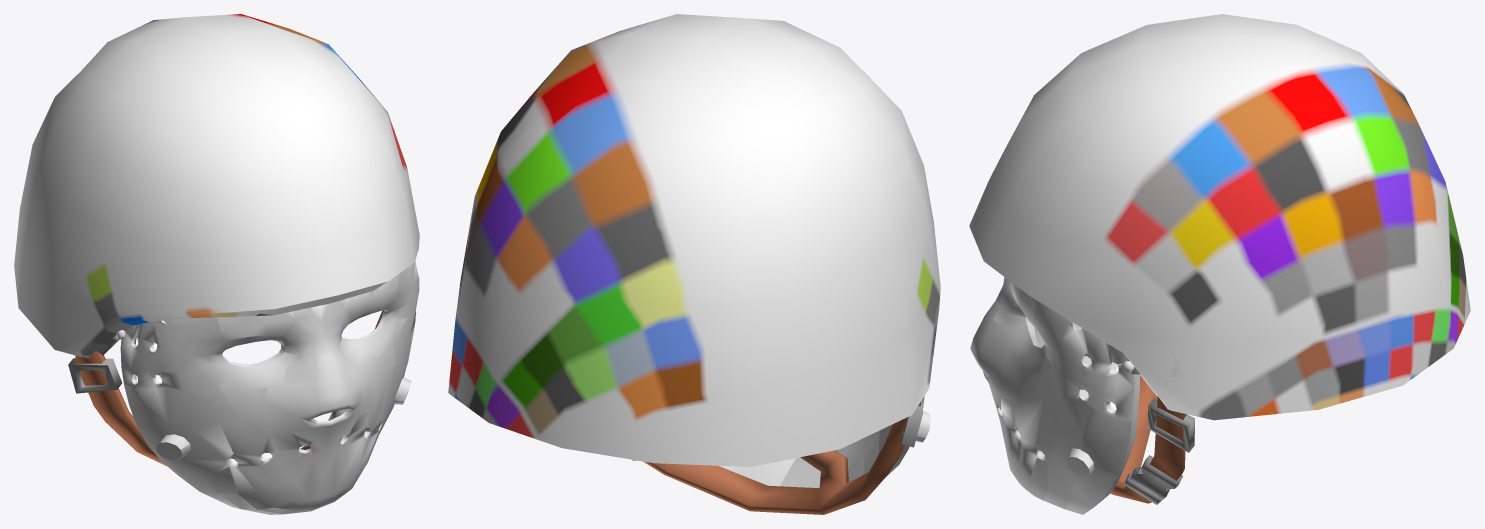
The model's file is helmet.002.fbx.
3 renders of one model, left to right at view 1: azimuth 30°, elevation 25°; view 2: azimuth 150°, elevation 25°; view 3: azimuth 270°, elevation 25°, orthographic. The views are drawn at different scales.
Parts seen in each view (by area): view 1: helmet.002; view 2: helmet.002; view 3: helmet.002.
Part boxes in pixels (box(x1,y1,x2,y2)): helmet.002: box(14, 14, 419, 514); helmet.002: box(448, 14, 940, 514); helmet.002: box(969, 14, 1470, 514).
Size of the model in its own units: 96.27 by 114 by 112.
